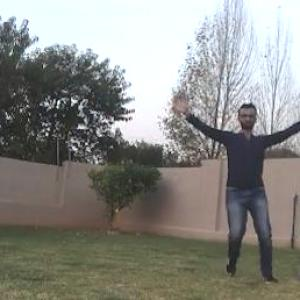takeoff: (159, 99, 299, 274)
